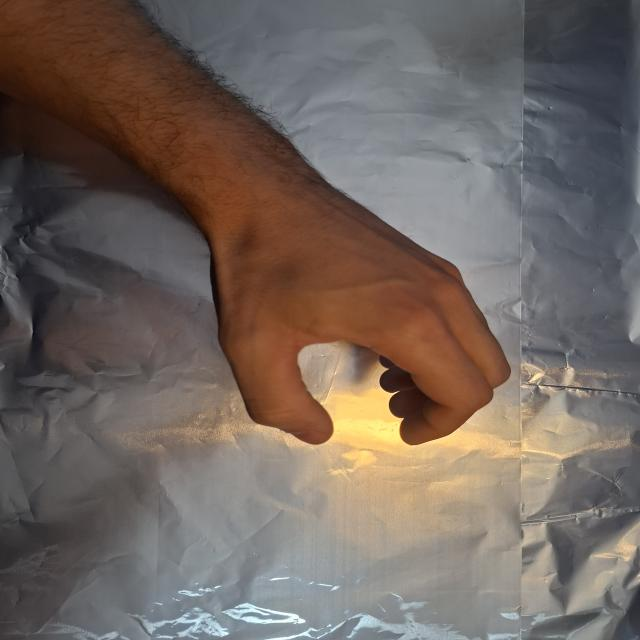glove_off: (196, 193, 514, 447)
